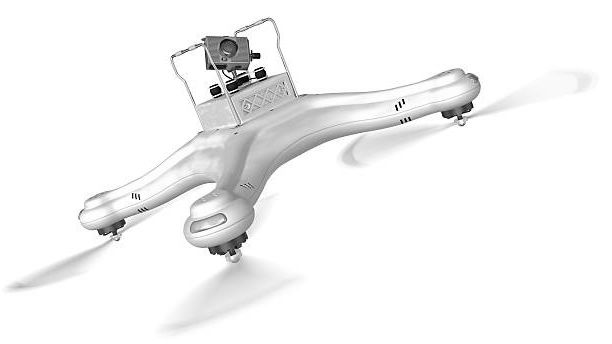Drone: (15, 13, 593, 326)
